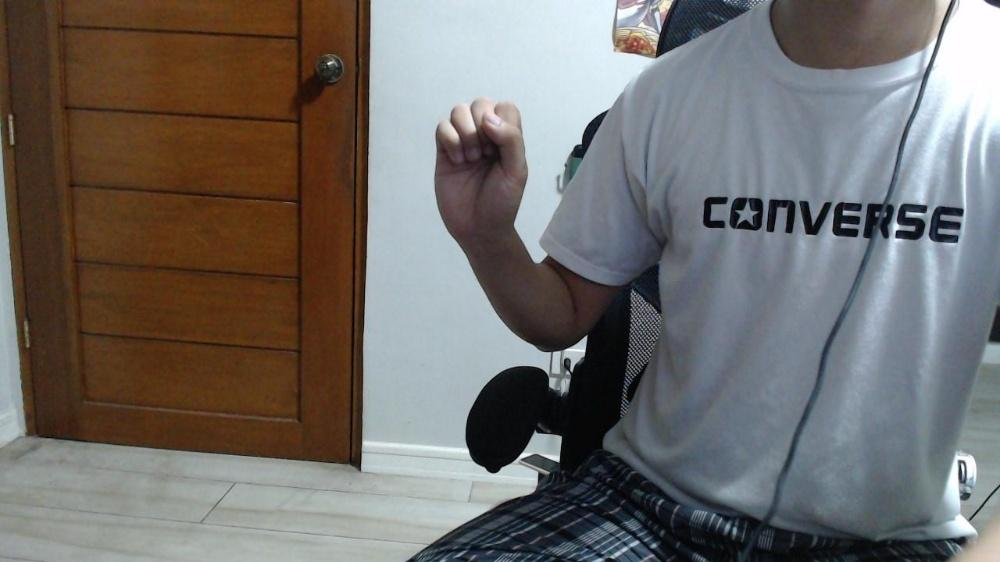s: (434, 99, 527, 227)
